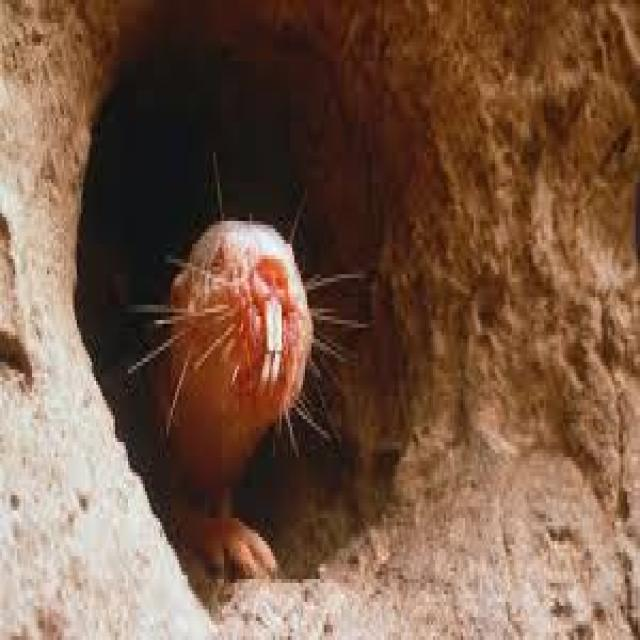rat: (122, 202, 369, 579)
